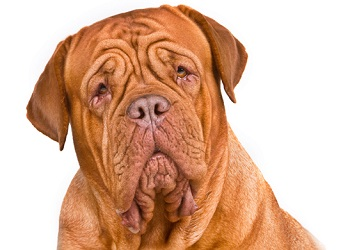dogue_de_bordeaux: (25, 4, 324, 250)
